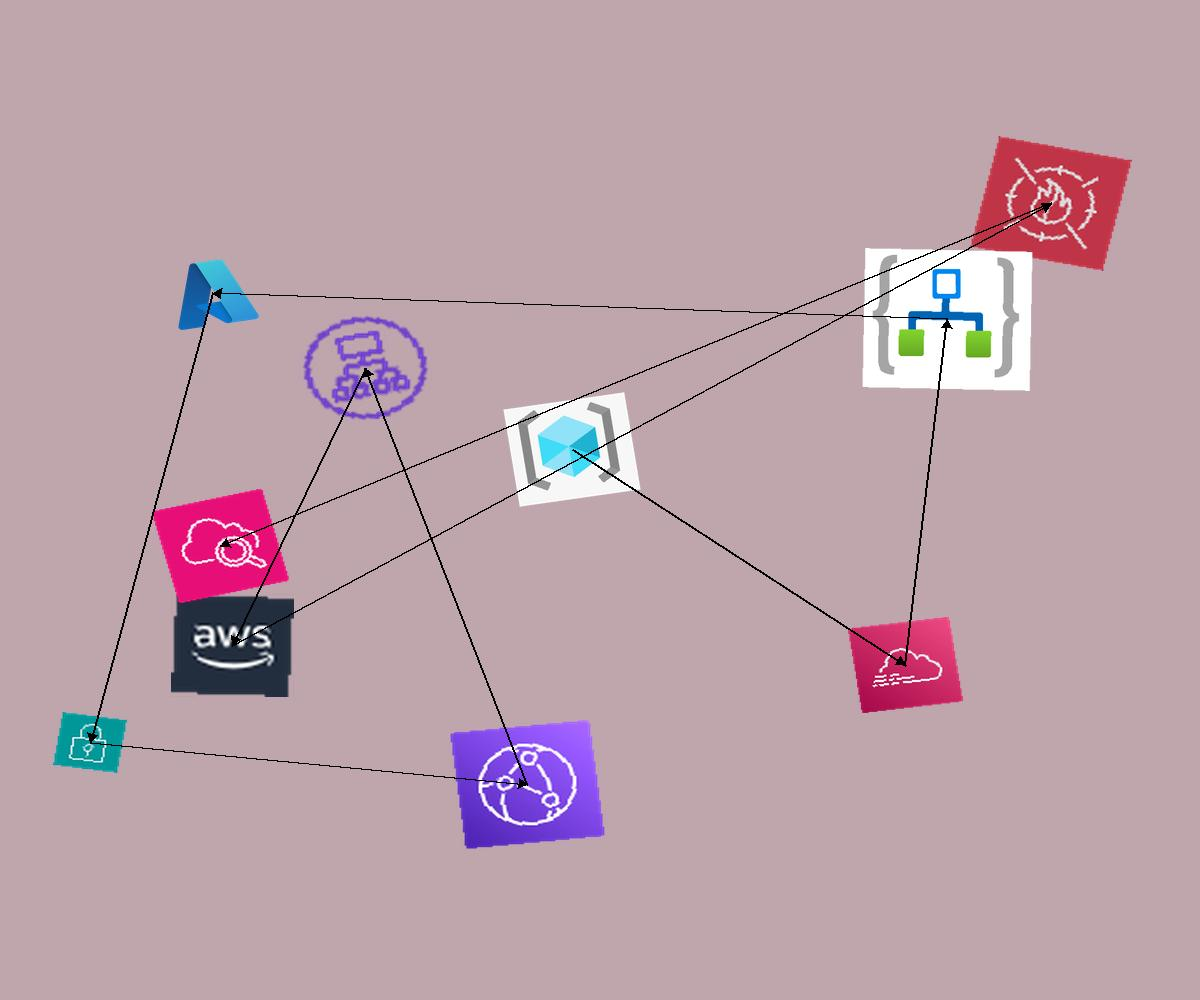AWS-Cloud-logo: (171, 594, 294, 697)
AWS-CloudFront: (449, 719, 606, 850)
AWS-CloudTrail: (847, 616, 964, 714)
AWS-CloudWatch: (151, 488, 290, 604)
AWS-Private-subnet: (53, 712, 127, 773)
AWS-Res_Elastic-Load-Balancing_Application-Load-Balancer: (285, 301, 446, 435)
AWS-WAF: (970, 136, 1132, 271)
Azure_integration-204-Logic-Apps: (862, 248, 1033, 391)
Azure_resource_group: (503, 392, 641, 507)
Azure_services: (161, 250, 264, 336)
